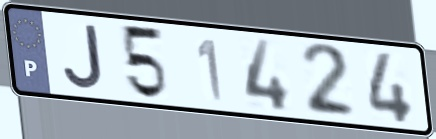1: (194, 37, 225, 102)
2: (297, 40, 360, 119)
4: (240, 35, 296, 114), (364, 50, 417, 125)
5: (115, 21, 170, 102)
J: (61, 22, 108, 92)
